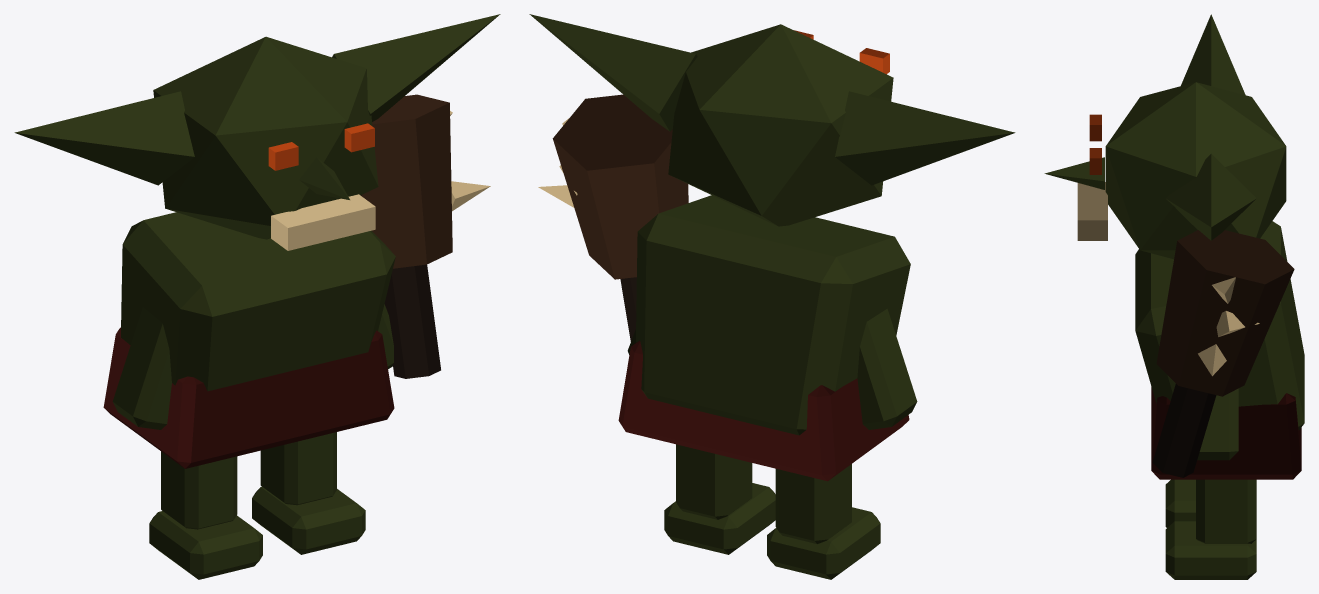
The model's file is goblin.obj.
3 views of the same model, side by side, from view 1: azimuth 30°, elevation 25°; view 2: azimuth 150°, elevation 25°; view 3: azimuth 270°, elevation 25° (orthographic). The views are drawn at different scales.
Visible parts, largest first — view 1: body, tool; view 2: body, tool; view 3: body, tool.
Boxes of the visible parts, x1,y1,x2,y2 form: body: (14,14,500,579); tool: (361,94,490,378); body: (529,14,1015,579); tool: (538,94,688,341); body: (1044,14,1304,579); tool: (1152,230,1294,477).
Bounding box in the file's own units: 0.3325 × 0.3365 × 0.1716.
